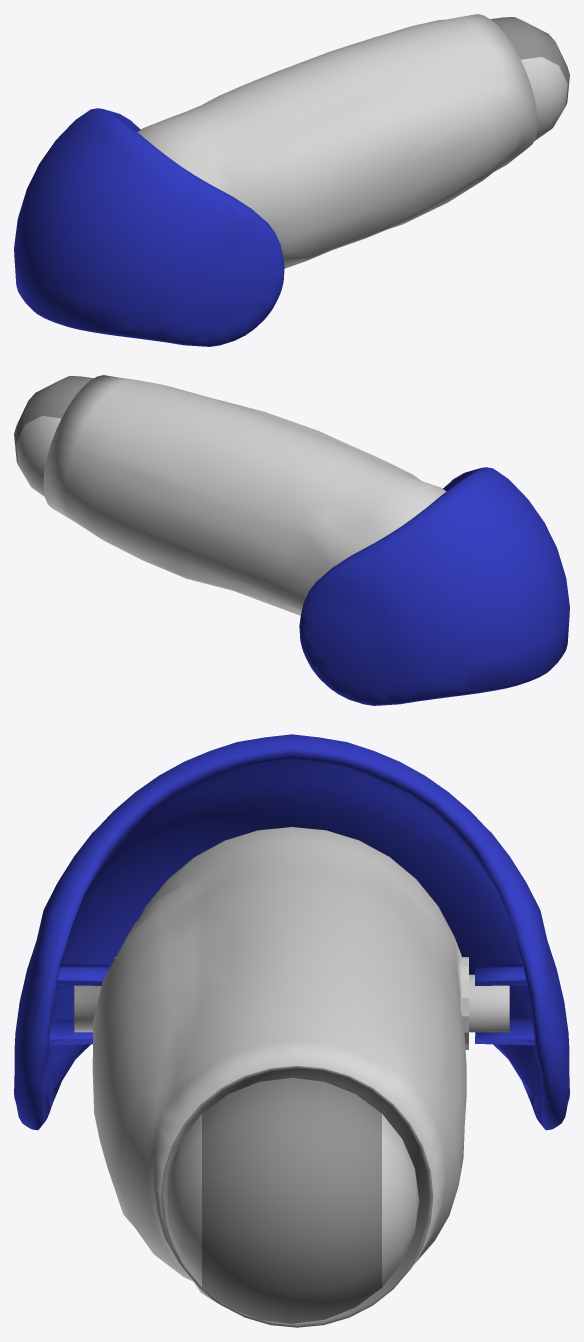
File: LShoulderRoll.dae
The picture shows the model from 3 angles, top to bottom: view 1: azimuth 30°, elevation 25°; view 2: azimuth 150°, elevation 25°; view 3: azimuth 270°, elevation 25°; orthographic projection. The views are drawn at different scales.
Parts seen in each view (by area): view 1: root_012; view 2: root_012; view 3: root_012.
Part boxes in pixels (<box>): root_012: <box>14,14,569,346</box>; root_012: <box>14,375,569,705</box>; root_012: <box>14,734,569,1327</box>.
Size of the model in its own units: 170 by 81.69 by 60.
